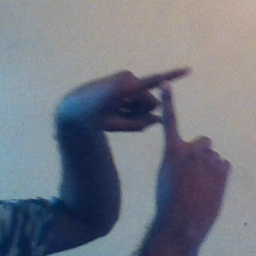T: (111, 57, 214, 159)
